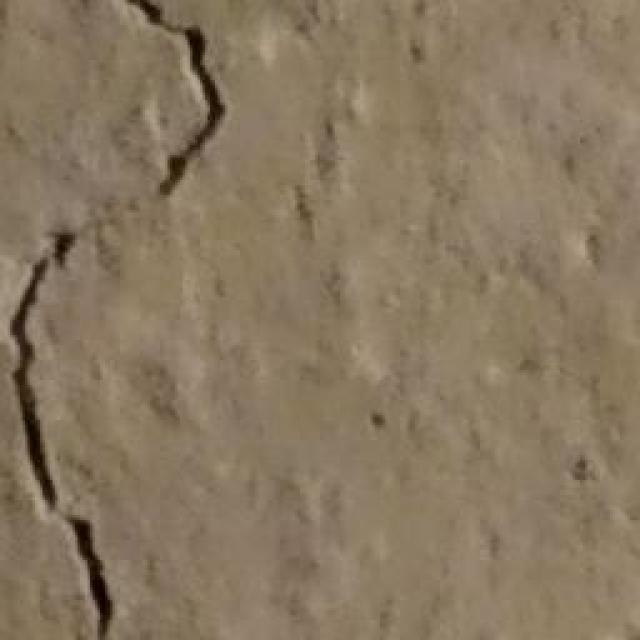Longitudinal: (7, 1, 278, 640)
